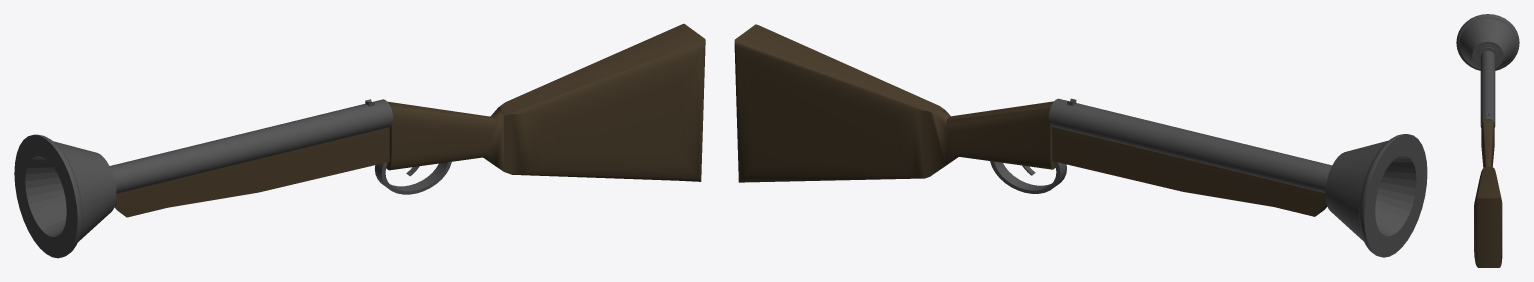
Rendered from Trabuco.fbx.
3 views of the same model, side by side, from view 1: azimuth 30°, elevation 25°; view 2: azimuth 150°, elevation 25°; view 3: azimuth 270°, elevation 25° (orthographic). The views are drawn at different scales.
Parts seen in each view (by area): view 1: Escopeta; view 2: Escopeta; view 3: Escopeta.
Boxes of the visible parts, x1=… form: Escopeta: x1=14, y1=23, x2=705, y2=258; Escopeta: x1=734, y1=24, x2=1427, y2=257; Escopeta: x1=1456, y1=14, x2=1519, y2=267.
Bounding box in the file's own units: 69.55 × 413 × 117.
